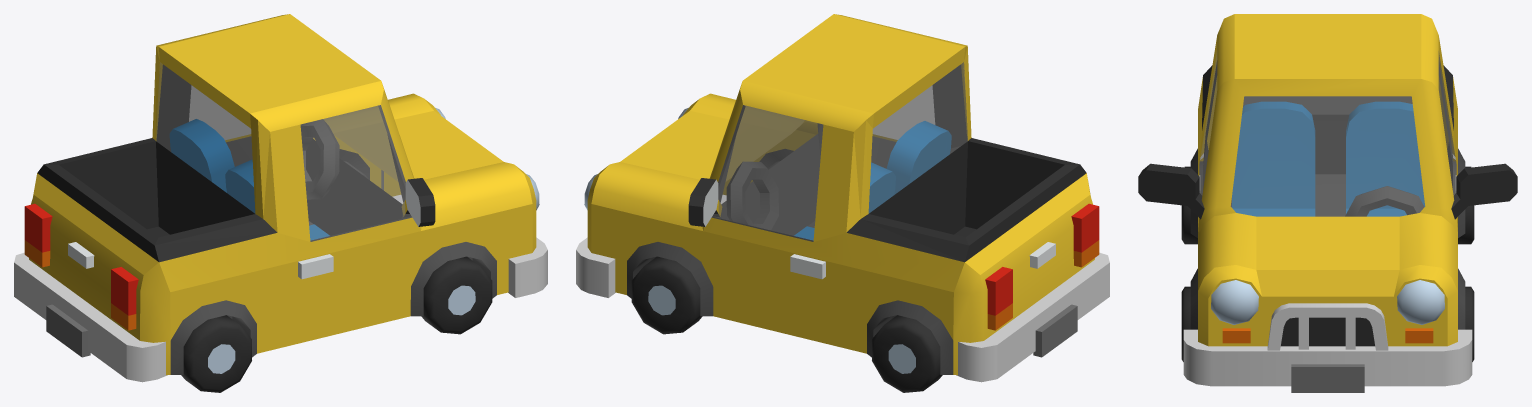
Rendered from car01_s03.FBX.
3 views of the same model, side by side, from view 1: azimuth 30°, elevation 25°; view 2: azimuth 150°, elevation 25°; view 3: azimuth 270°, elevation 25° (orthographic). The views are drawn at different scales.
Visible parts, largest first — view 1: car01_s03; view 2: car01_s03; view 3: car01_s03.
Part boxes in pixels (box(x1,y1,x2,y2)): car01_s03: box(14, 14, 547, 392); car01_s03: box(576, 14, 1109, 392); car01_s03: box(1138, 14, 1517, 392).
Bounding box in the file's own units: 275 × 205 × 152.
